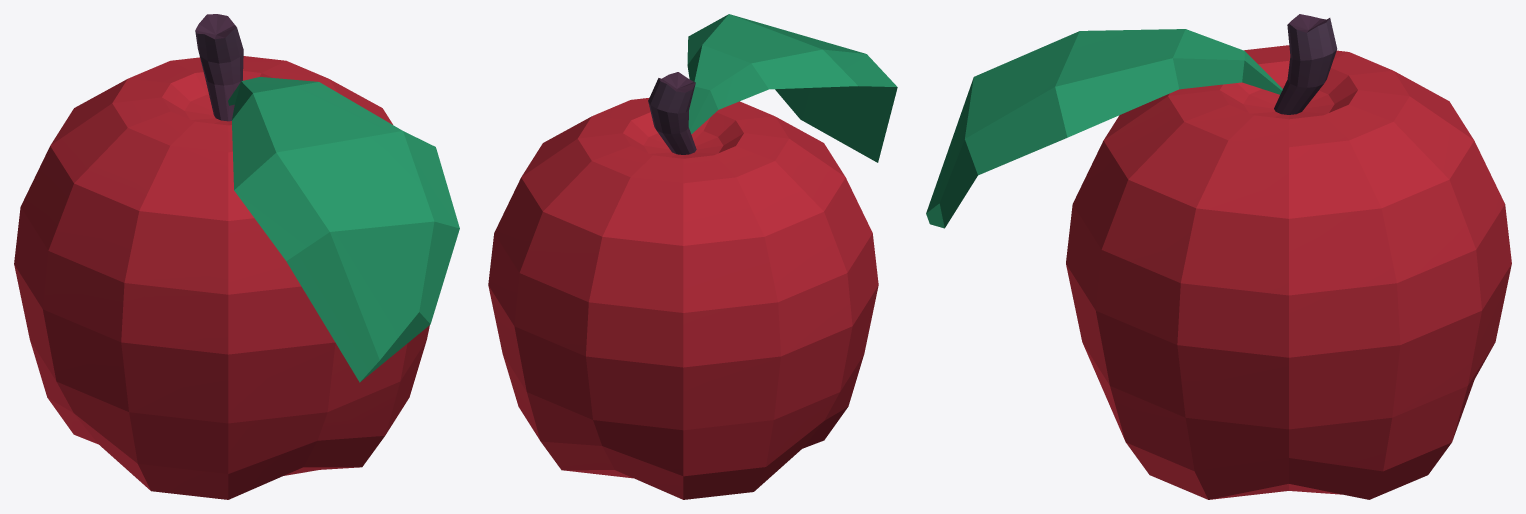
File: Apple.fbx
3 views of the same model, side by side, from view 1: azimuth 30°, elevation 25°; view 2: azimuth 150°, elevation 25°; view 3: azimuth 270°, elevation 25° (orthographic). The views are drawn at different scales.
Parts seen in each view (by area): view 1: Apple; view 2: Apple; view 3: Apple.
Part boxes in pixels (left/top/right/bottom): Apple: left=14, top=14, right=459, bottom=499; Apple: left=488, top=14, right=897, bottom=499; Apple: left=926, top=14, right=1511, bottom=499.
Size of the model in its own units: 41.98 by 45.29 by 55.13.
